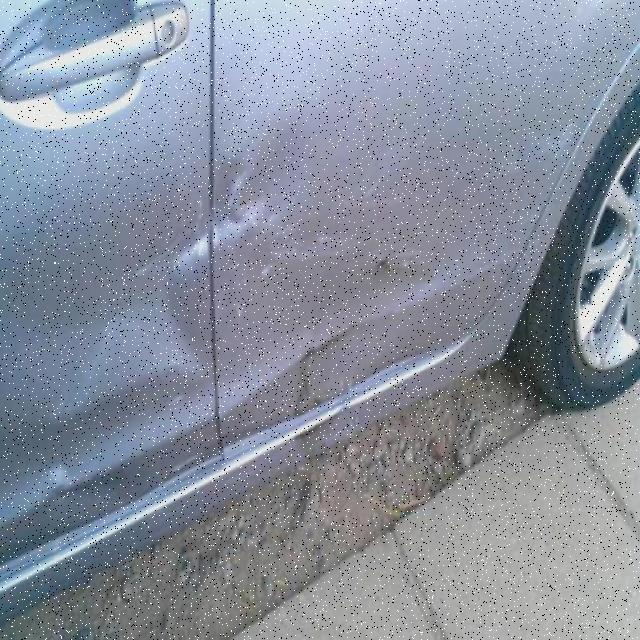car damage: (144, 123, 302, 279), (261, 292, 433, 409), (64, 295, 209, 417), (26, 453, 141, 514), (374, 250, 425, 278)
